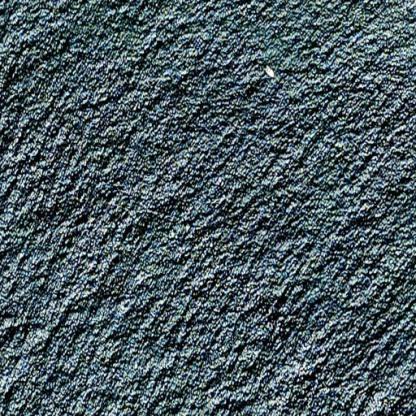ship: (245, 64, 259, 78)
